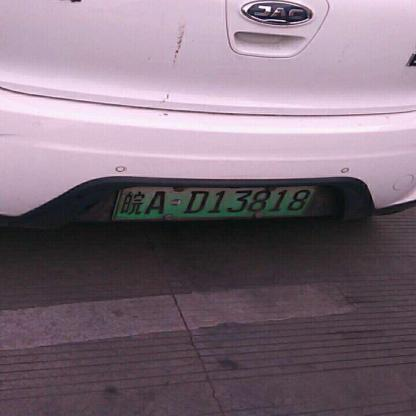lp: (113, 187, 313, 220)
